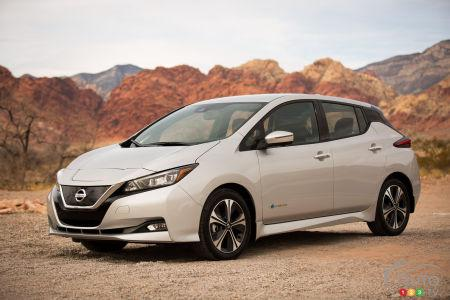car: (39, 89, 434, 265)
